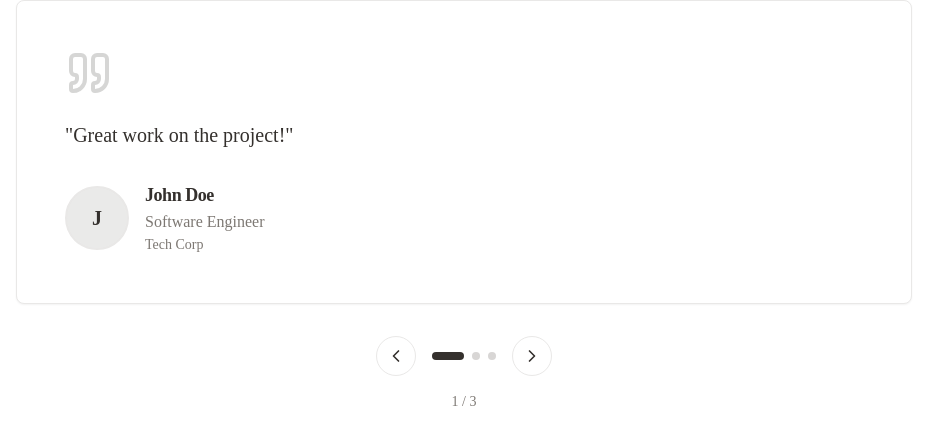
Test: TestimonialsCarousel › should navigate to specific testimonial when clicking dot indicator
The width and height of the screenshot is (929, 426).
Note: Click on the third dot (index 2)
Click the button named "Go to testimonial 3" at (492,356), box [488,352,496,360]
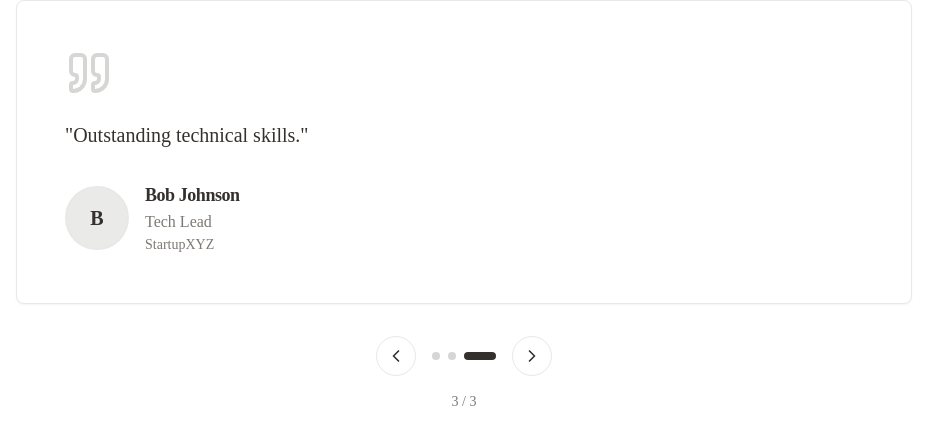
Result: the heading "Bob Johnson" is shown at [145,181,240,209]
Result: the text "3 / 3" is shown at [452,394,476,409]
